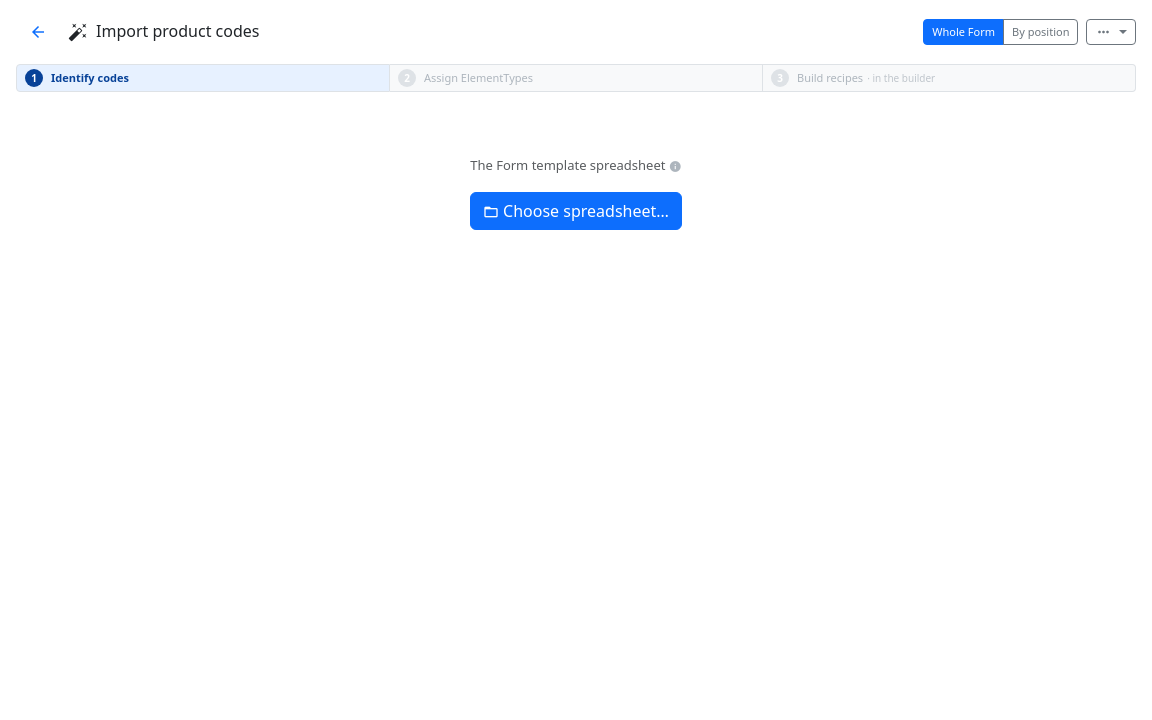
Test case: the Form, as a table › confirm by ticking; Ctrl+Z un-ticks, Ctrl+Shift+Z re-ticks; the filter follows
Click the text "Choose spreadsheet…".
click(586, 210)  # box [503, 200, 669, 222]
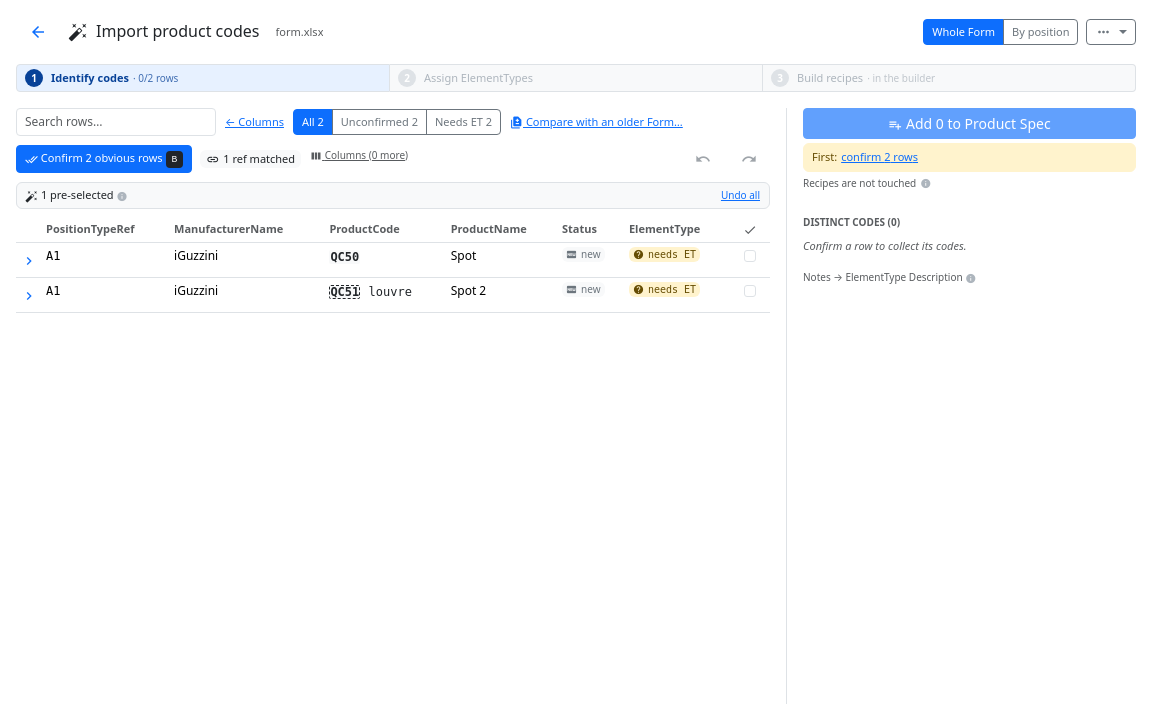
Expected: the button "Unconfirmed 2" is shown, [332, 109, 427, 135]
Click the 1st checkbox named "Confirm row".
click(750, 256)  # box [744, 250, 756, 262]
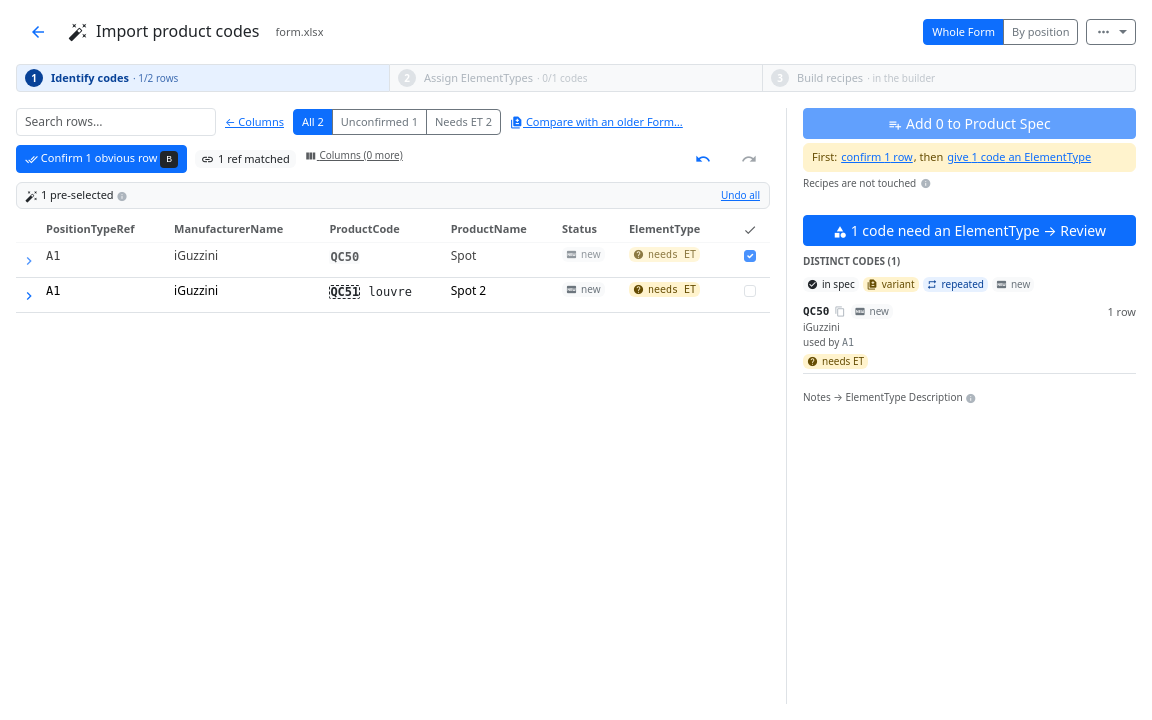
Expected: the button "Unconfirmed 1" is shown, [332, 109, 427, 135]
Press z
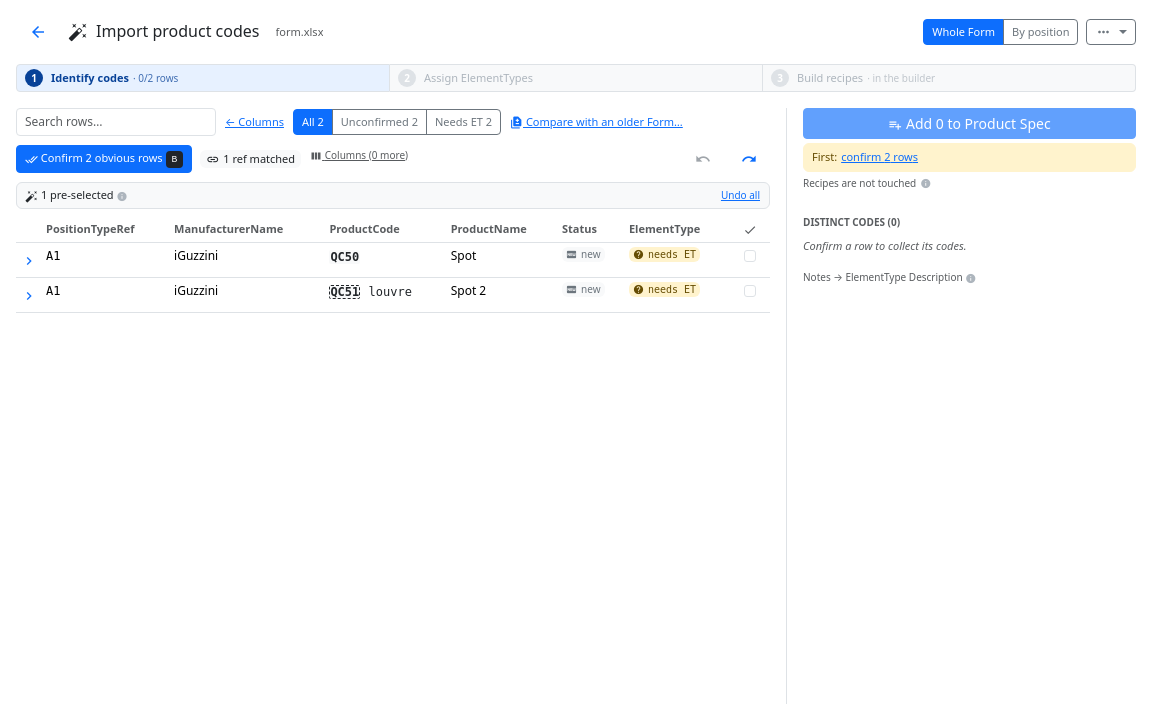
Expected: the button "Unconfirmed 2" is shown, [332, 109, 427, 135]
Press z
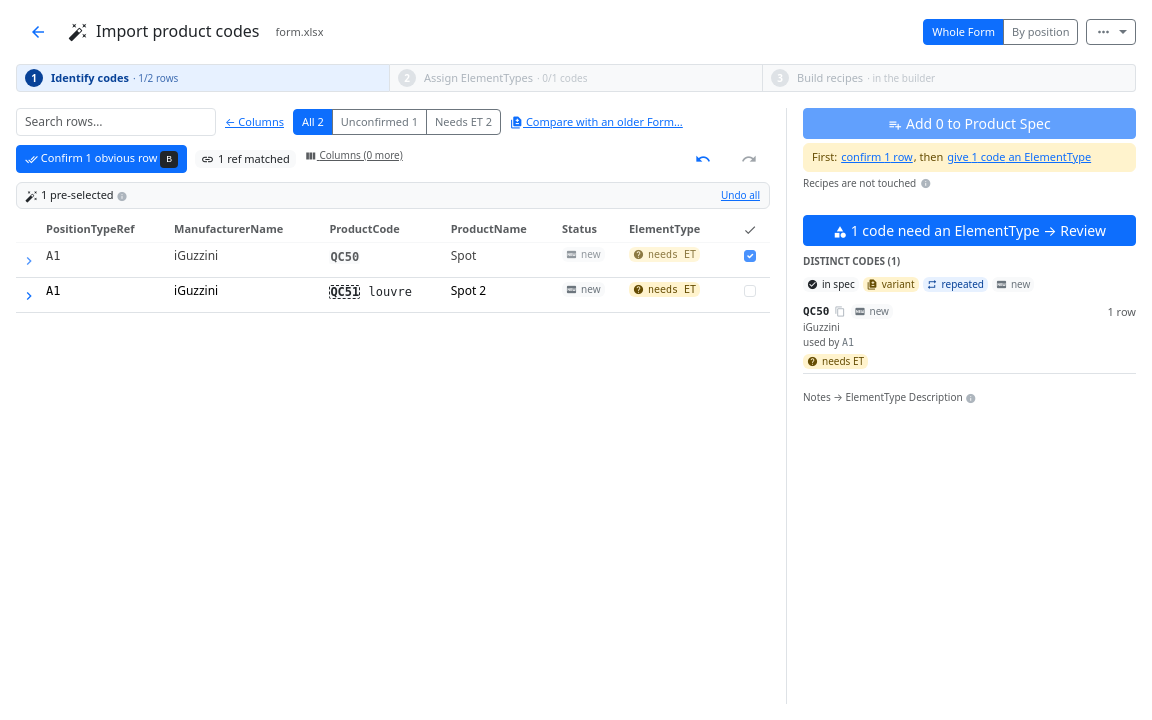
Expected: the button "Unconfirmed 1" is shown
Click the button "Unconfirmed 1".
click(379, 122)  # box [332, 109, 427, 135]
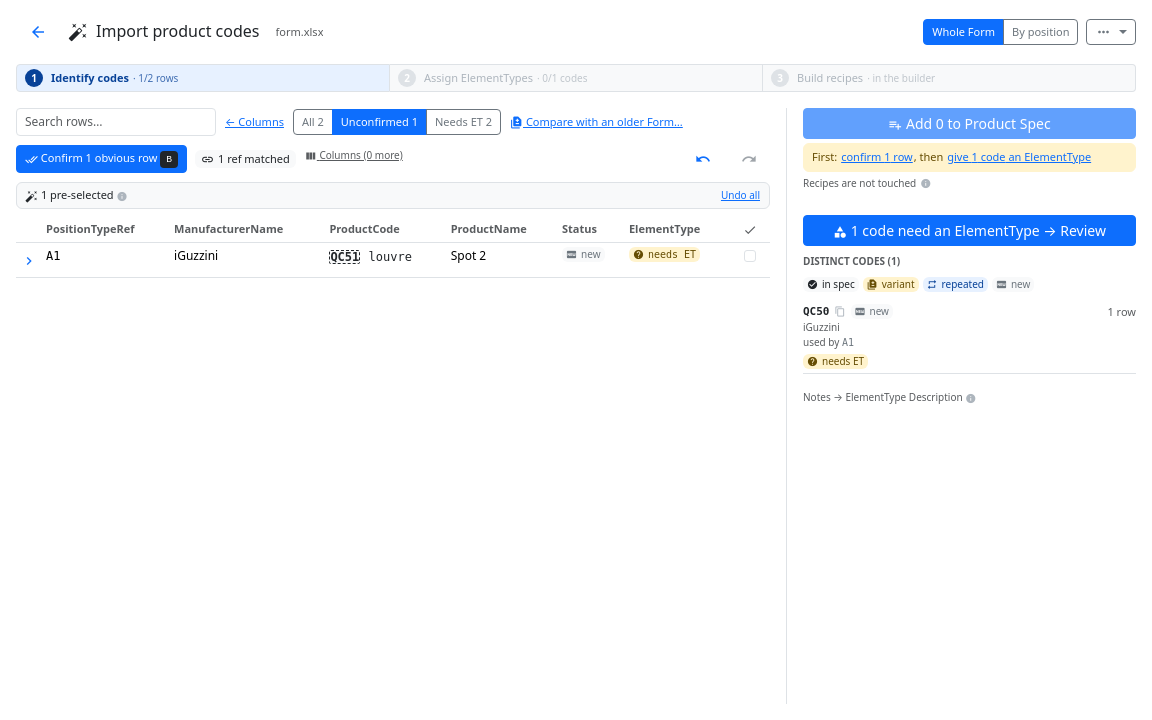
Expected: the number of rows is 2, [16, 217, 770, 242]; [16, 242, 770, 277]
